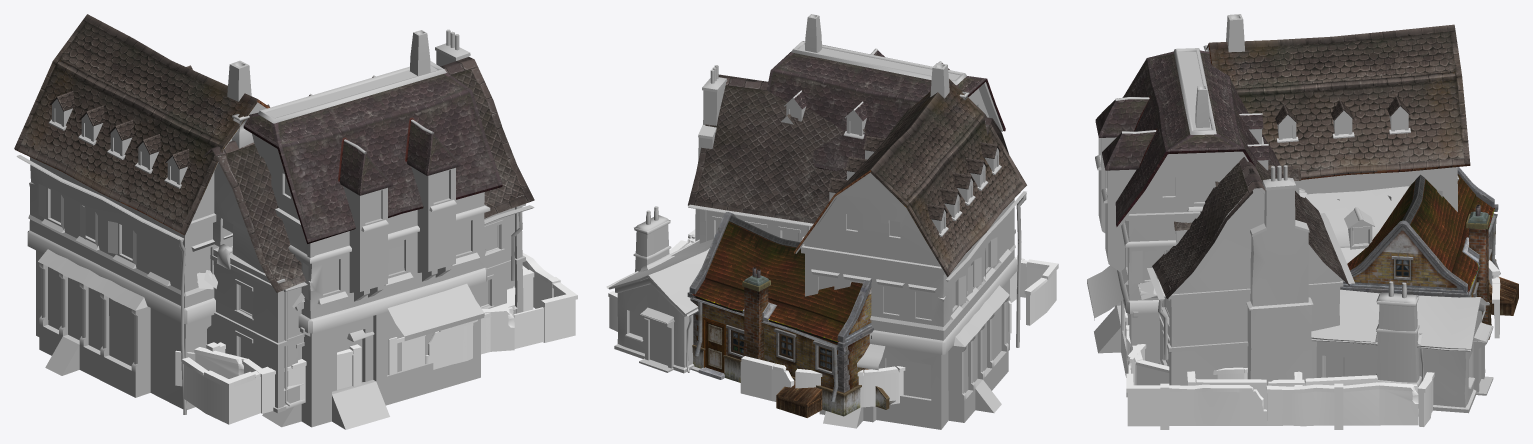
Rendered from worker-artisan.gltf.
3 views of the same model, side by side, from view 1: azimuth 30°, elevation 25°; view 2: azimuth 150°, elevation 25°; view 3: azimuth 270°, elevation 25° (orthographic). The views are drawn at different scales.
Visible parts, largest first — view 1: _estate01_lod0, _estate02_lod0, _estate03_lod0; view 2: _estate01_lod0, _estate02_lod0, _estate03_lod0; view 3: _estate02_lod0, _estate01_lod0, _estate03_lod0.
Part boxes in pixels (x1,y1,x2,y2): _estate01_lod0: [14, 14, 515, 414]; _estate02_lod0: [243, 30, 577, 429]; _estate03_lod0: [175, 29, 534, 424]; _estate01_lod0: [606, 63, 1026, 429]; _estate02_lod0: [608, 14, 1005, 417]; _estate03_lod0: [685, 65, 1058, 407]; _estate02_lod0: [1087, 48, 1518, 429]; _estate01_lod0: [1123, 14, 1493, 416]; _estate03_lod0: [1129, 45, 1500, 409].
Bounding box in the file's own units: 2.97 × 2.25 × 2.86.
